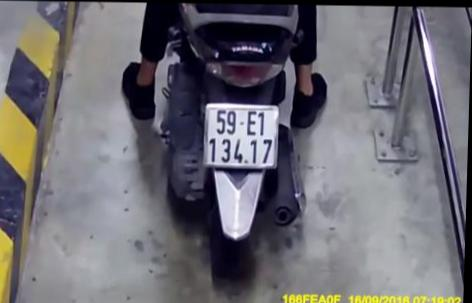LP: (202, 100, 283, 167)
